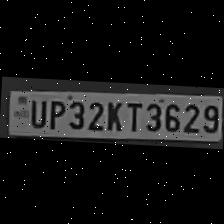2: (84, 96, 106, 130), (180, 99, 200, 133)
3: (142, 97, 162, 130), (64, 96, 84, 128)
6: (160, 97, 182, 130)
9: (198, 100, 220, 132)
K: (102, 97, 124, 131)
P: (45, 95, 65, 129)
T: (122, 97, 142, 131)
U: (26, 95, 46, 127)
